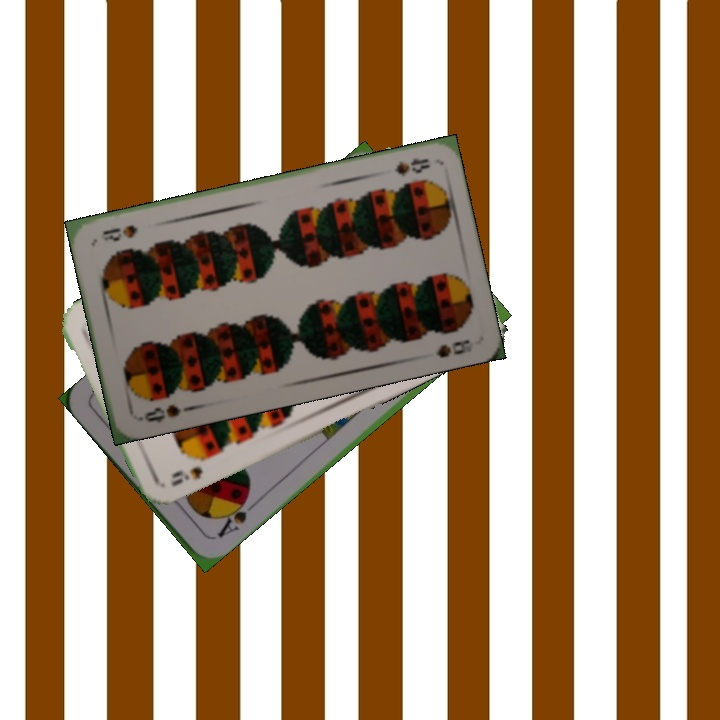S8: (134, 400, 183, 425), (390, 154, 433, 179)
S9: (167, 463, 205, 489)
SA: (213, 492, 258, 541)
